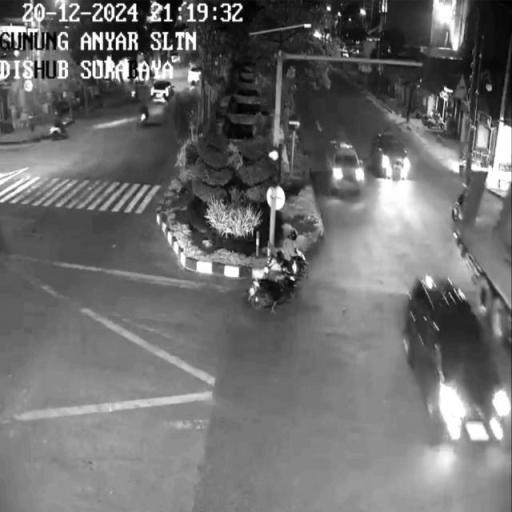car: (401, 272, 507, 442), (370, 131, 414, 184), (328, 142, 359, 200)
motorcycle: (251, 269, 297, 313)
